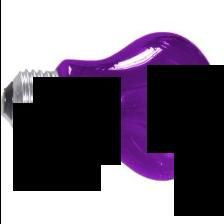purple: (0, 32, 219, 180)
